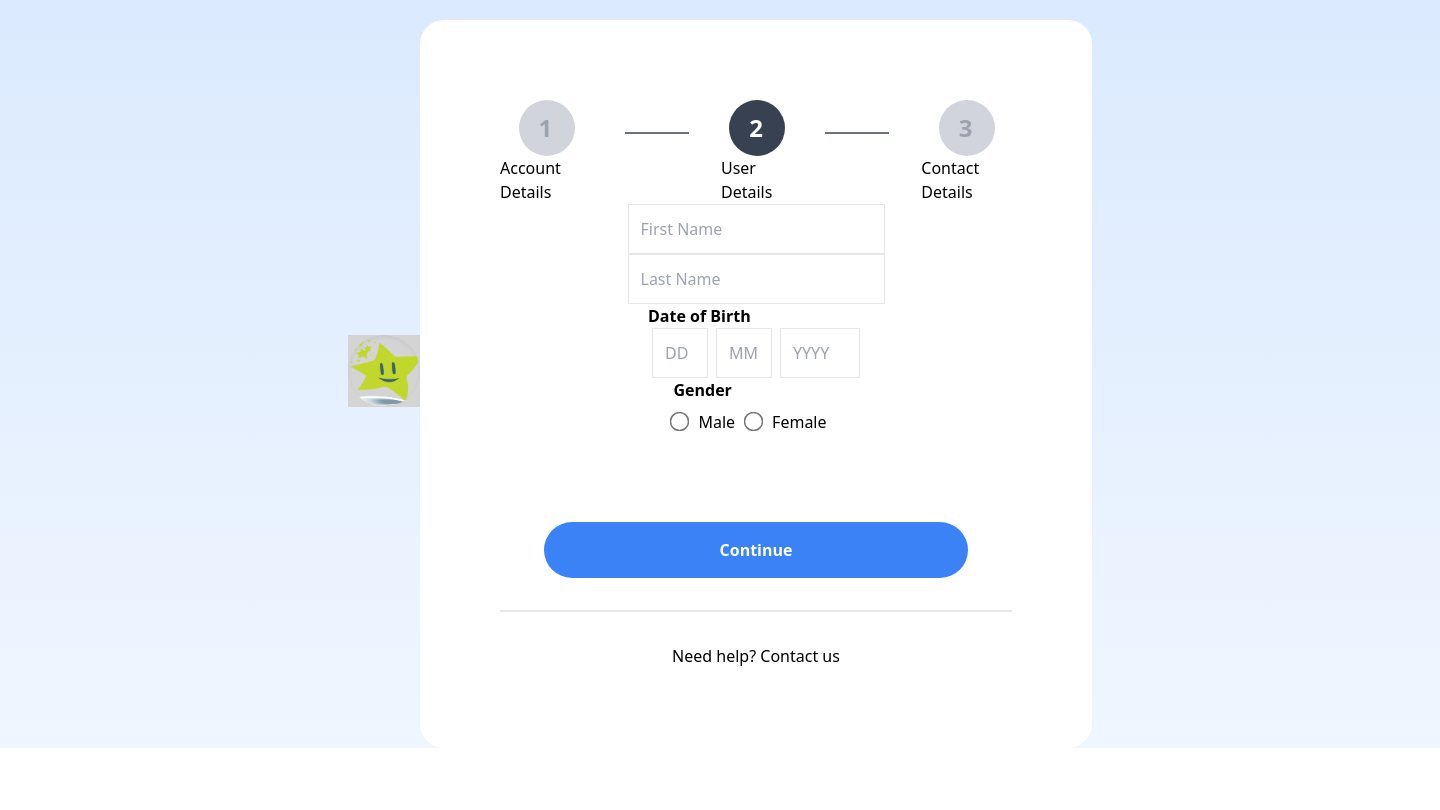
Scenario: UserDetails › validations › first/last name › last name should be only letters, spaces, apostrophes, dashes and between 2 - 30, value: valid--not
The image size is (1440, 810).
Type "valid--not" into the field with placeholder "Last Name" at {"x": 756, "y": 279}, box [628, 254, 884, 304]
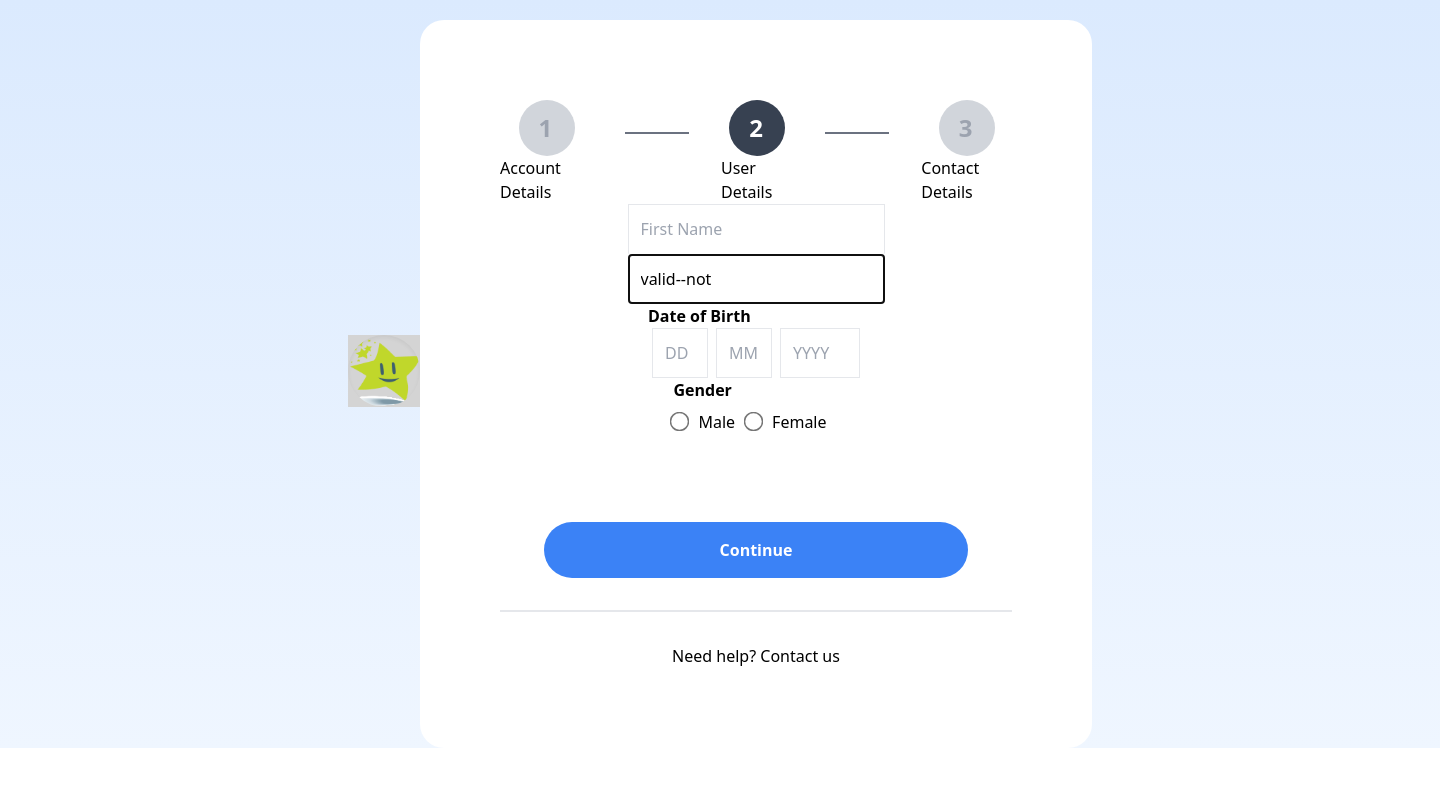
Press Tab
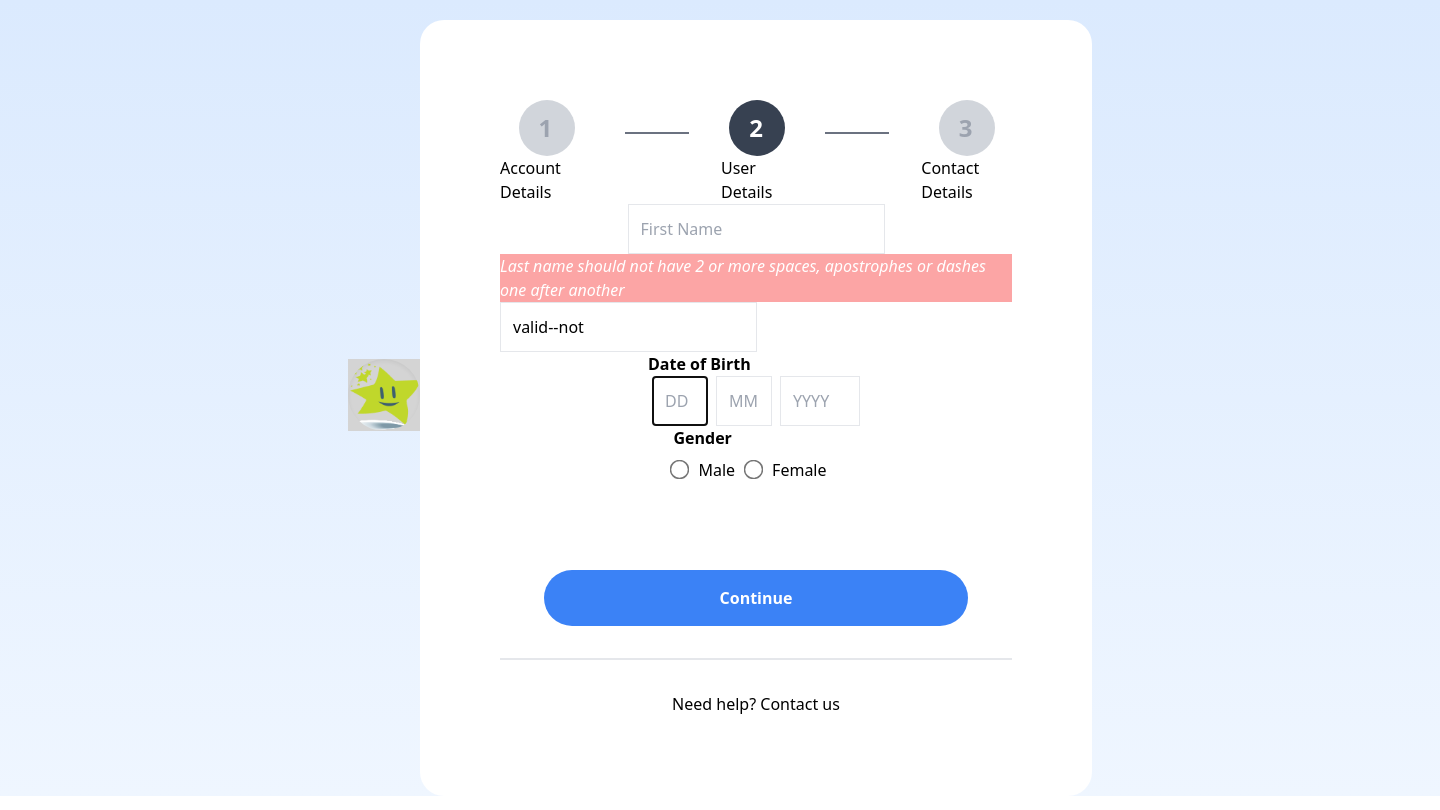
Expected: the text "Last name" is shown, [500, 255, 986, 301]
